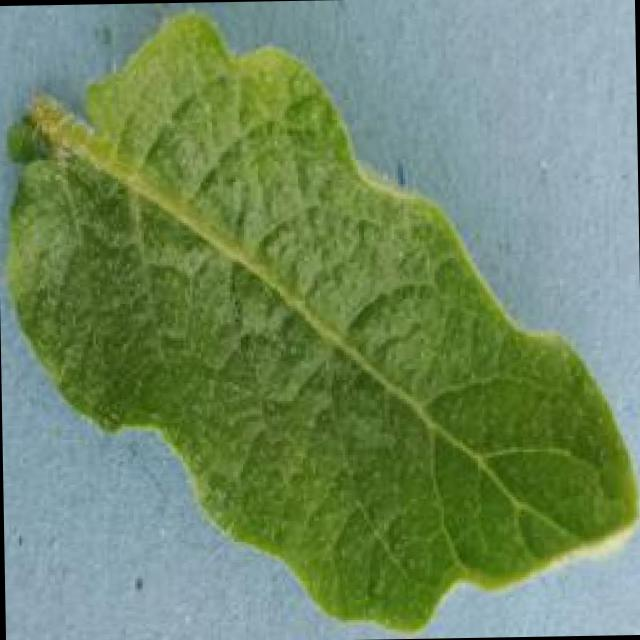Potato_Healthy: (0, 0, 639, 637)
